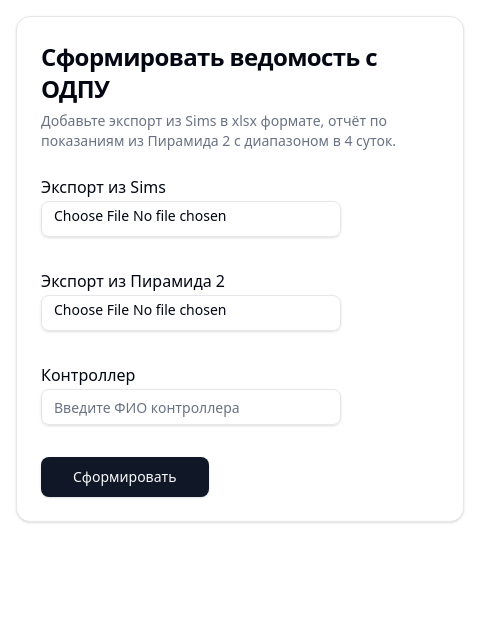
Test: Odpy › shows errors when form input fields are empty
The width and height of the screenshot is (481, 622).
Click the button "Сформировать" at {"x": 125, "y": 477}, box [41, 457, 208, 497]
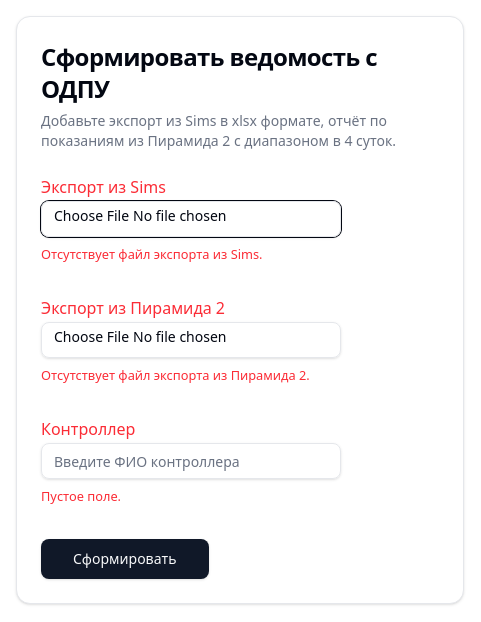
Result: the text "Отсутствует файл экспорта из Sims." is shown at [41, 245, 262, 263]
Result: the text "Отсутствует файл экспорта из Пирамида 2." is shown at [41, 366, 310, 384]
Result: the text "Пустое поле." is shown at [41, 487, 121, 505]
